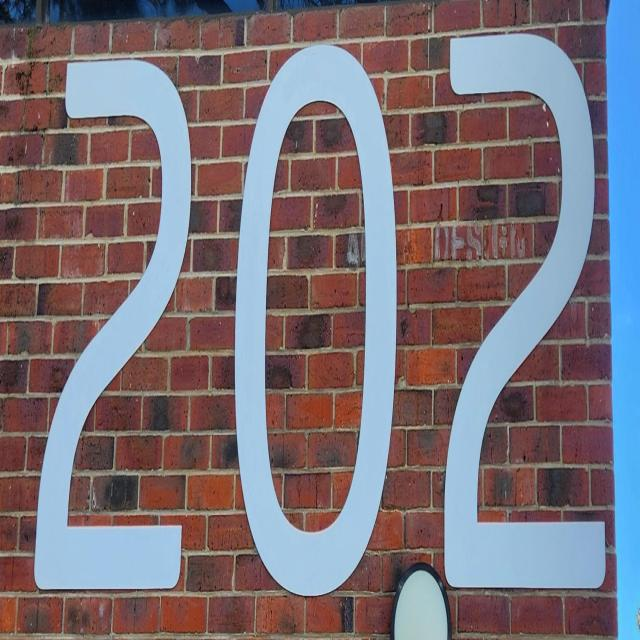character: (231, 38, 401, 602), (443, 27, 609, 596), (32, 51, 194, 594)
